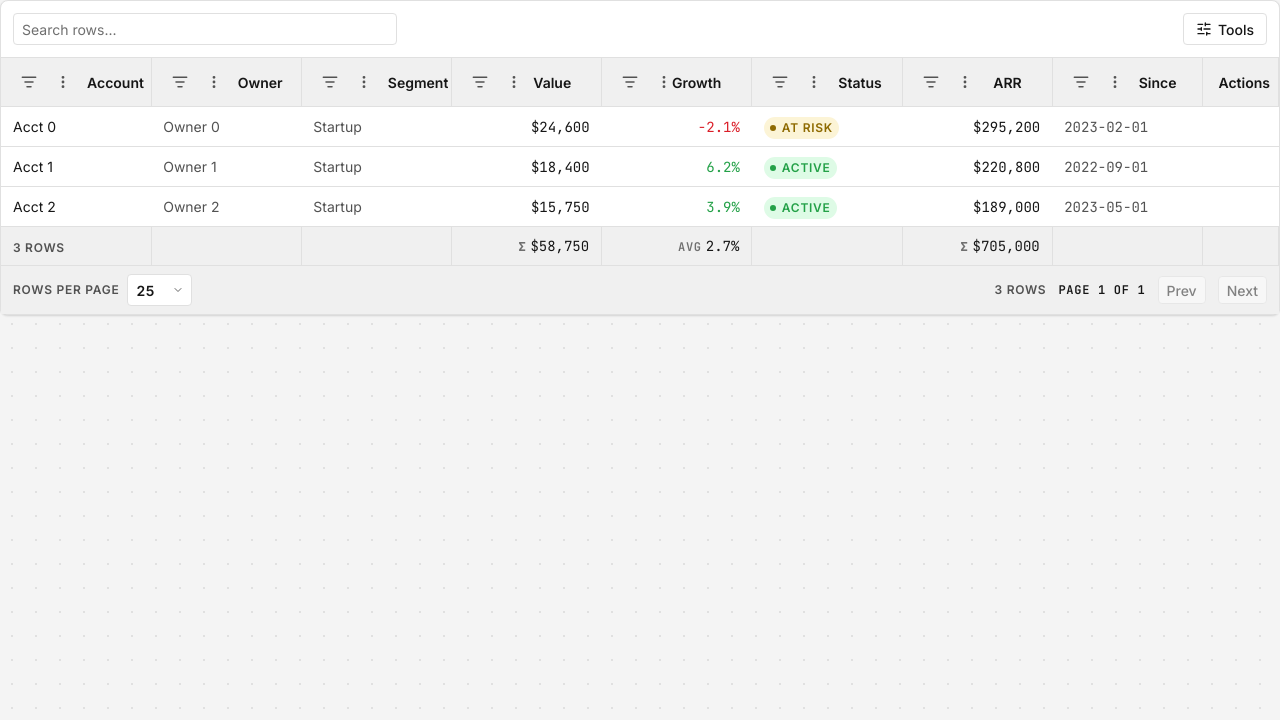
Test case: DataGrid inline editing › Tab commits and moves editing to the next editable cell in the row
Double-click the cell "Acct 0".
double_click(35, 126)  # box [1, 106, 151, 146]
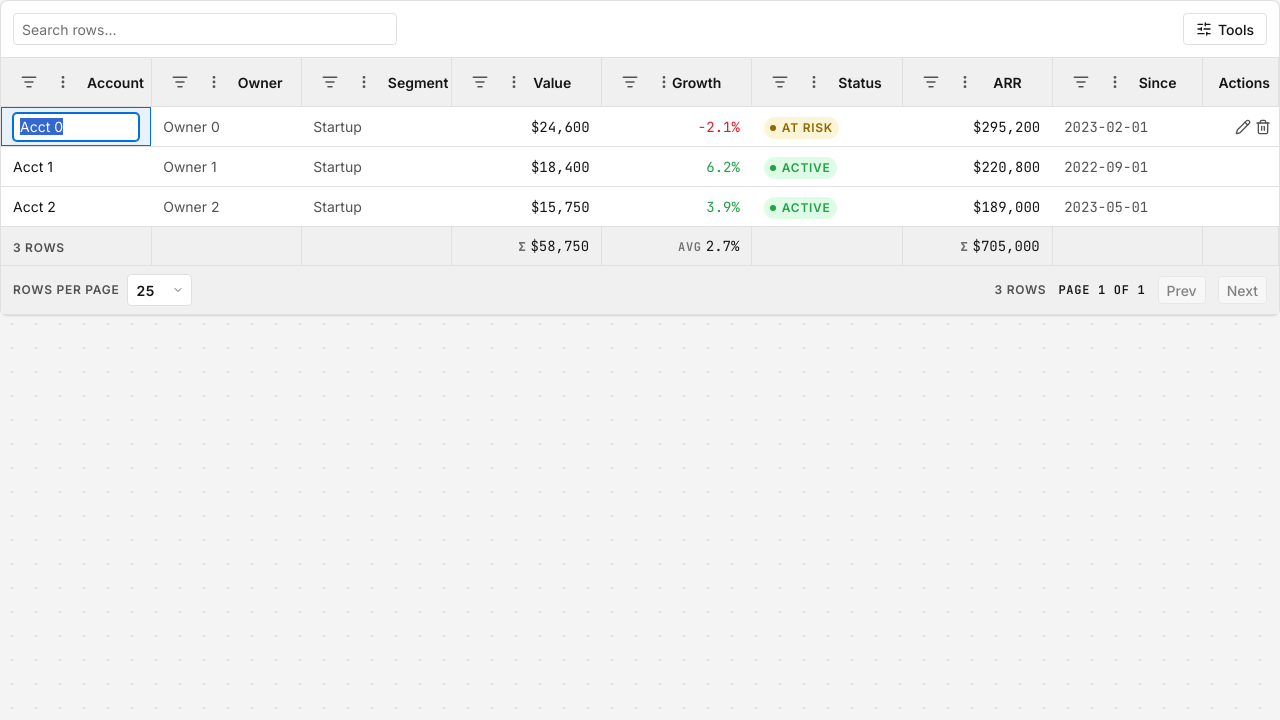
Replace the text in the field named "Edit account" with "Renamed Co" at (76, 126), box [13, 112, 139, 140]
Then press Tab
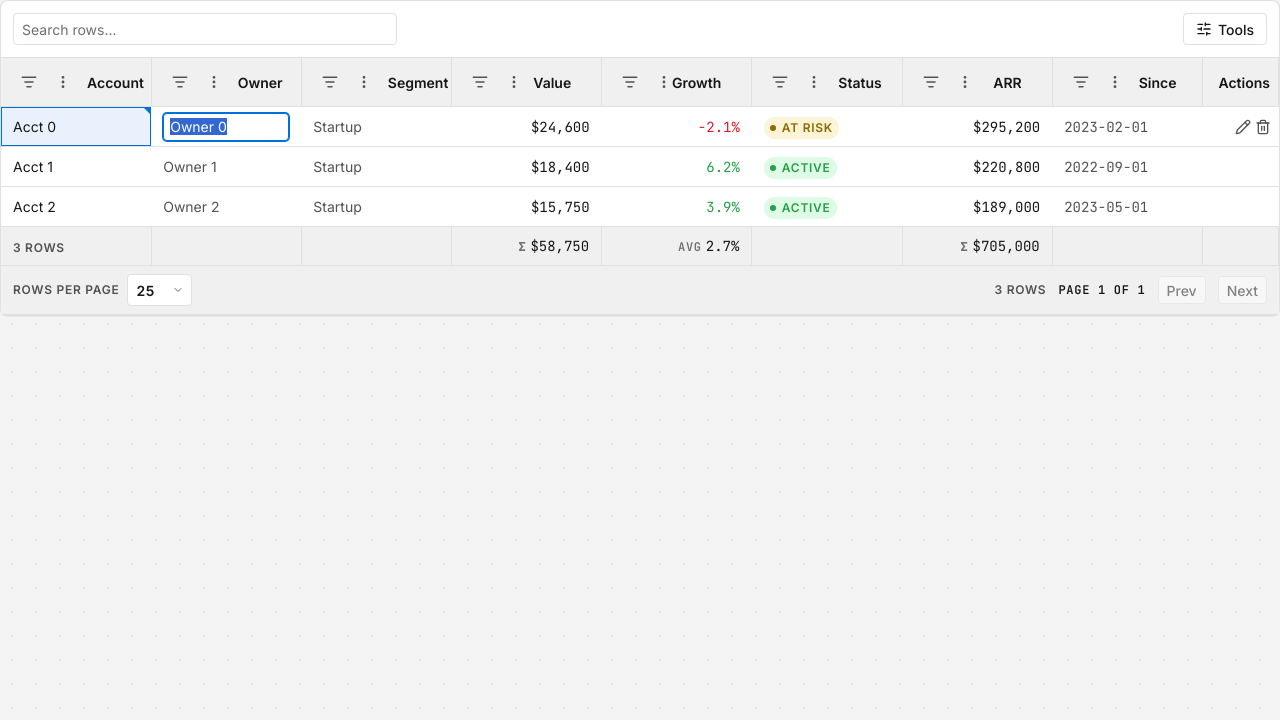
Check: the field named "Edit owner" is shown, box [163, 112, 289, 140]
